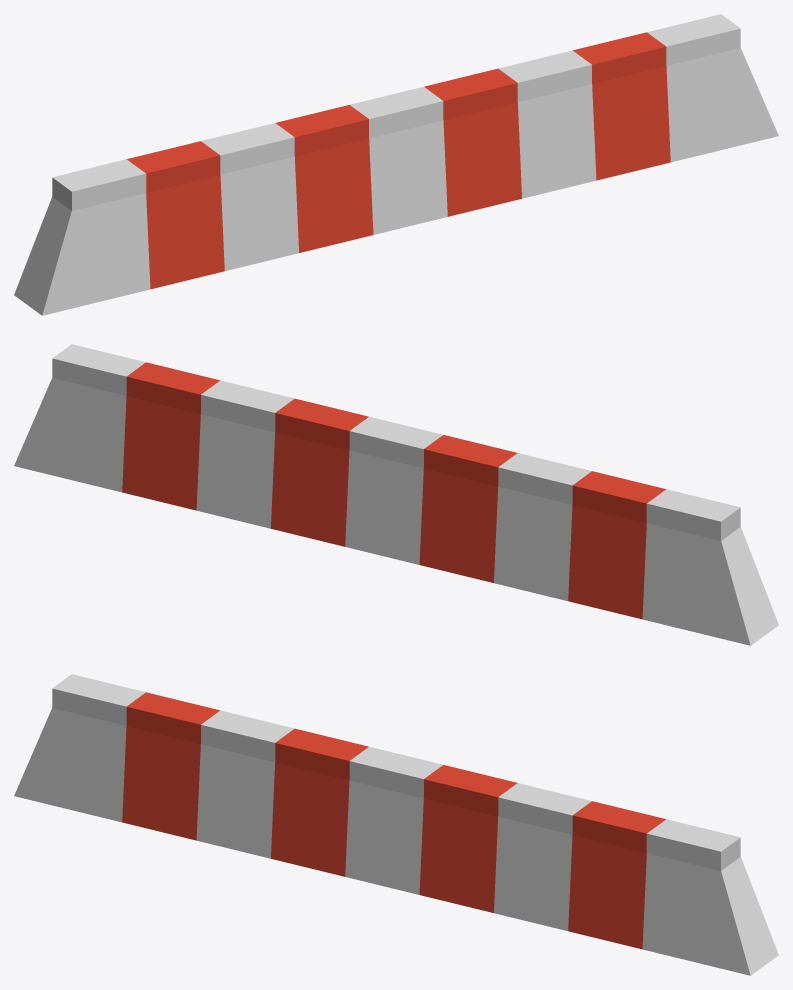
Rendered from Border.fbx.
The picture shows the model from 3 angles, top to bottom: view 1: azimuth 30°, elevation 25°; view 2: azimuth 150°, elevation 25°; view 3: azimuth 330°, elevation 25°; orthographic projection.
Visible parts, largest first — view 1: Border; view 2: Border; view 3: Border.
Part boxes in pixels (x1=…): Border: x1=14, y1=14, x2=778, y2=315; Border: x1=14, y1=344, x2=778, y2=645; Border: x1=14, y1=674, x2=778, y2=975.
Size of the model in its own units: 8.26 by 1.21 by 0.5491.
